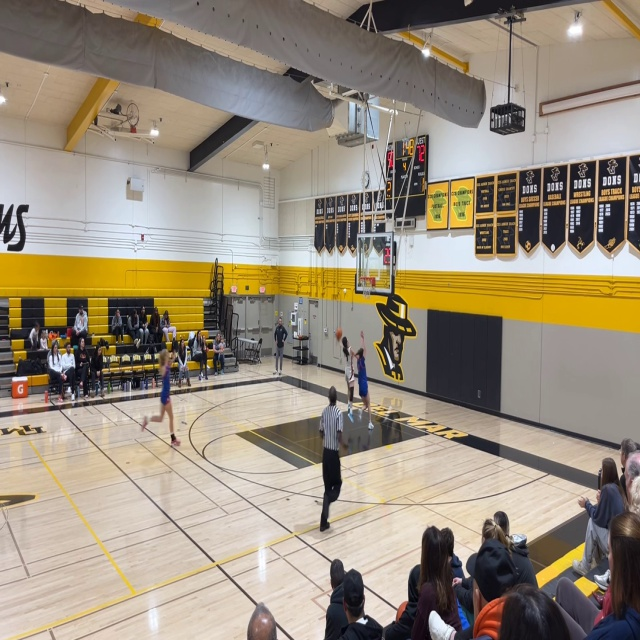Basketball: (334, 328, 342, 340)
